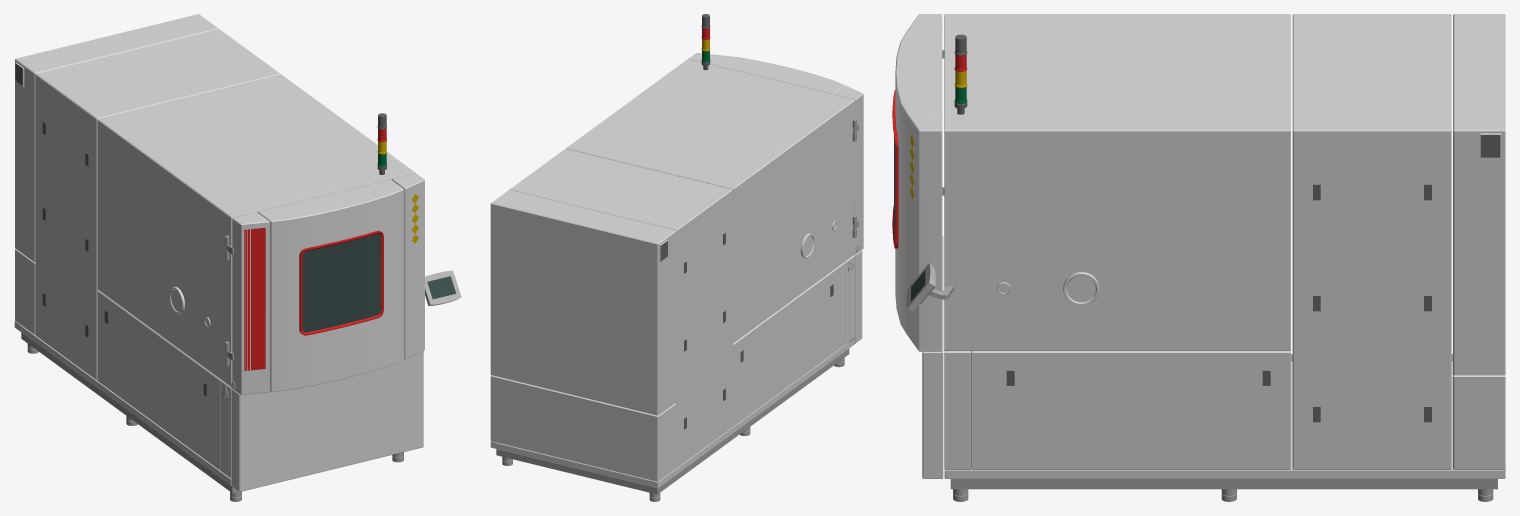
File: SYL1_01.fbx
3 renders of one model, left to right at view 1: azimuth 30°, elevation 25°; view 2: azimuth 150°, elevation 25°; view 3: azimuth 270°, elevation 25°, orthographic. The views are drawn at different scales.
Parts seen in each view (by area): view 1: SYL1_01; view 2: SYL1_01; view 3: SYL1_01.
Boxes of the visible parts, x1,y1,x2,y2 form: SYL1_01: [14, 14, 461, 501]; SYL1_01: [490, 14, 863, 501]; SYL1_01: [892, 14, 1505, 501].
Bounding box in the file's own units: 97.71 × 148 × 182.
